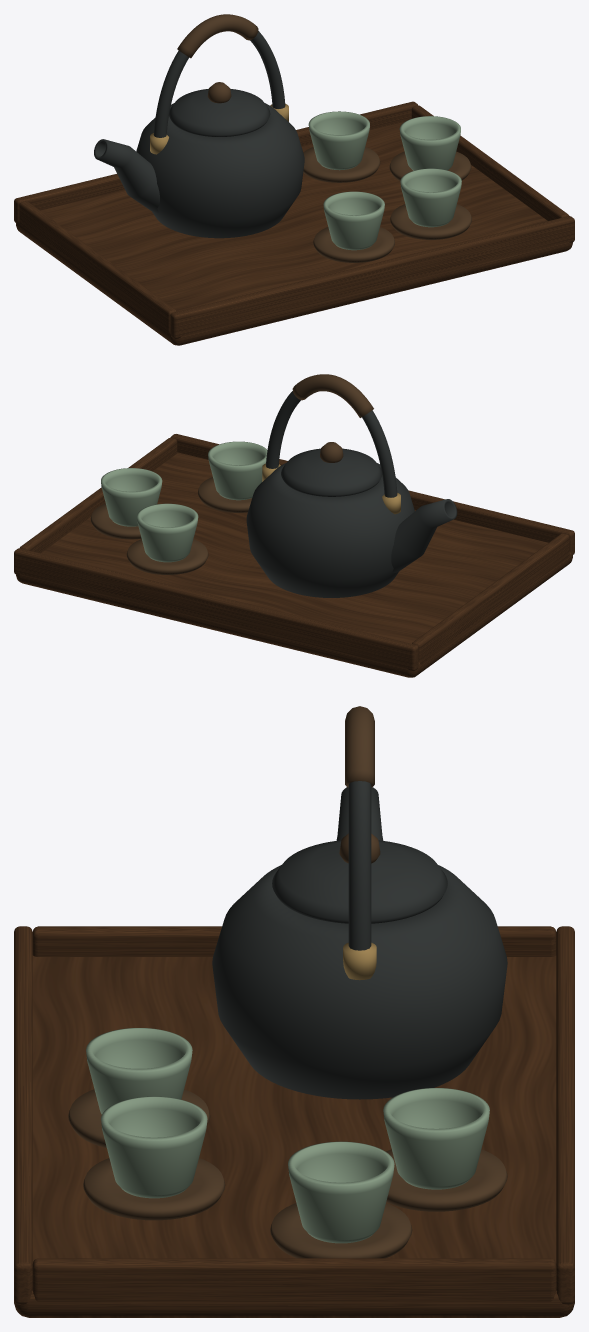
Rendered from japones_conjunto_cha.glb.
3 renders of one model, top to bottom at view 1: azimuth 30°, elevation 25°; view 2: azimuth 150°, elevation 25°; view 3: azimuth 270°, elevation 25°, orthographic. The views are drawn at different scales.
Visible parts, largest first — view 1: japones_conjunto_cha; view 2: japones_conjunto_cha; view 3: japones_conjunto_cha.
Part boxes in pixels (x1,y1,x2,y2): japones_conjunto_cha: (14, 14, 574, 345); japones_conjunto_cha: (14, 374, 574, 677); japones_conjunto_cha: (14, 706, 574, 1317).
Size of the model in its own units: 0.43 by 0.2309 by 0.3.
Materials: 5 (1 with a texture image).
